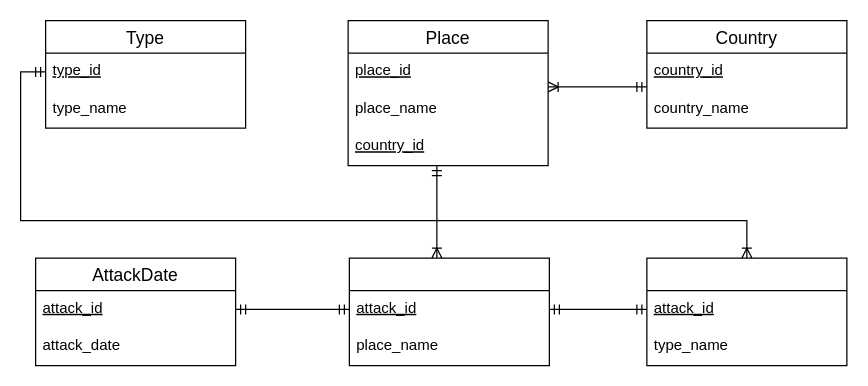
Image size: 868x386. Some labels were removed from this diagram. The box of each missing label's shape, as (x1, y1, x2, y2) in pixels:
AttackPlace: (348, 257, 549, 366)
AttackType: (646, 257, 847, 366)
